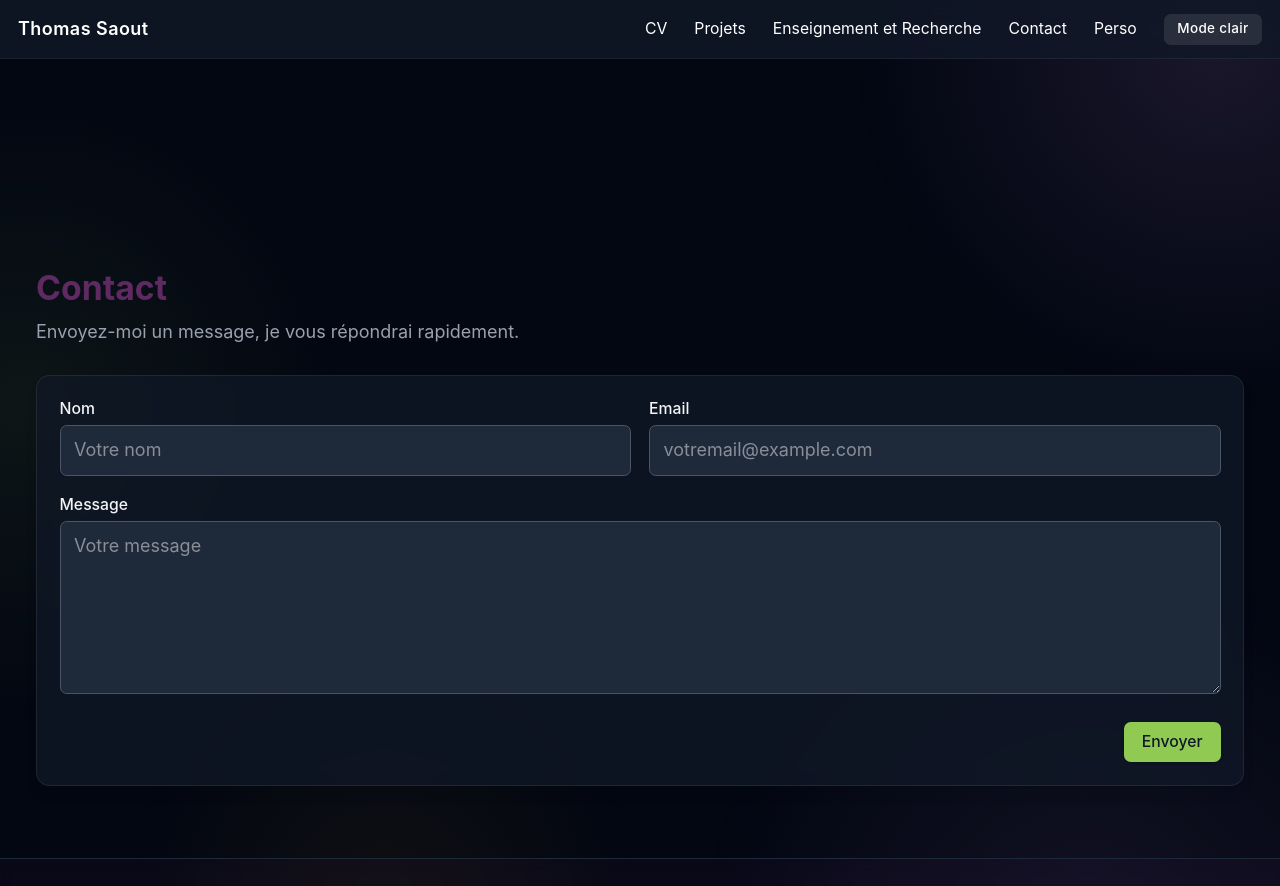
Test case: SectionContact › shows success message on successful submit
(page scrolled)
Type "Alice" into the field with placeholder "Votre nom" at x=345, y=451, box [60,426,631,476]
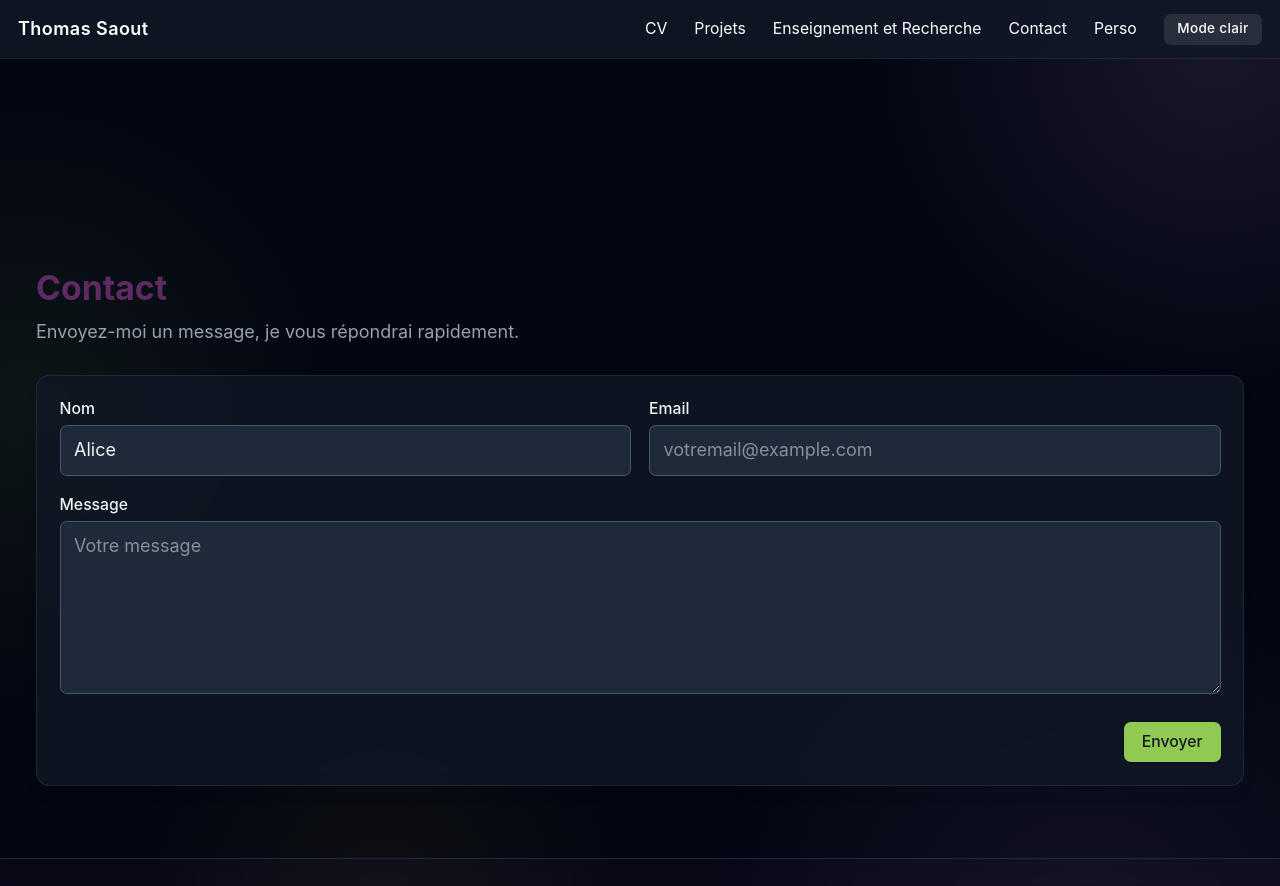
Type "alice@example.com" into the field with placeholder "votremail@example.com" at x=935, y=451, box [649,426,1220,476]
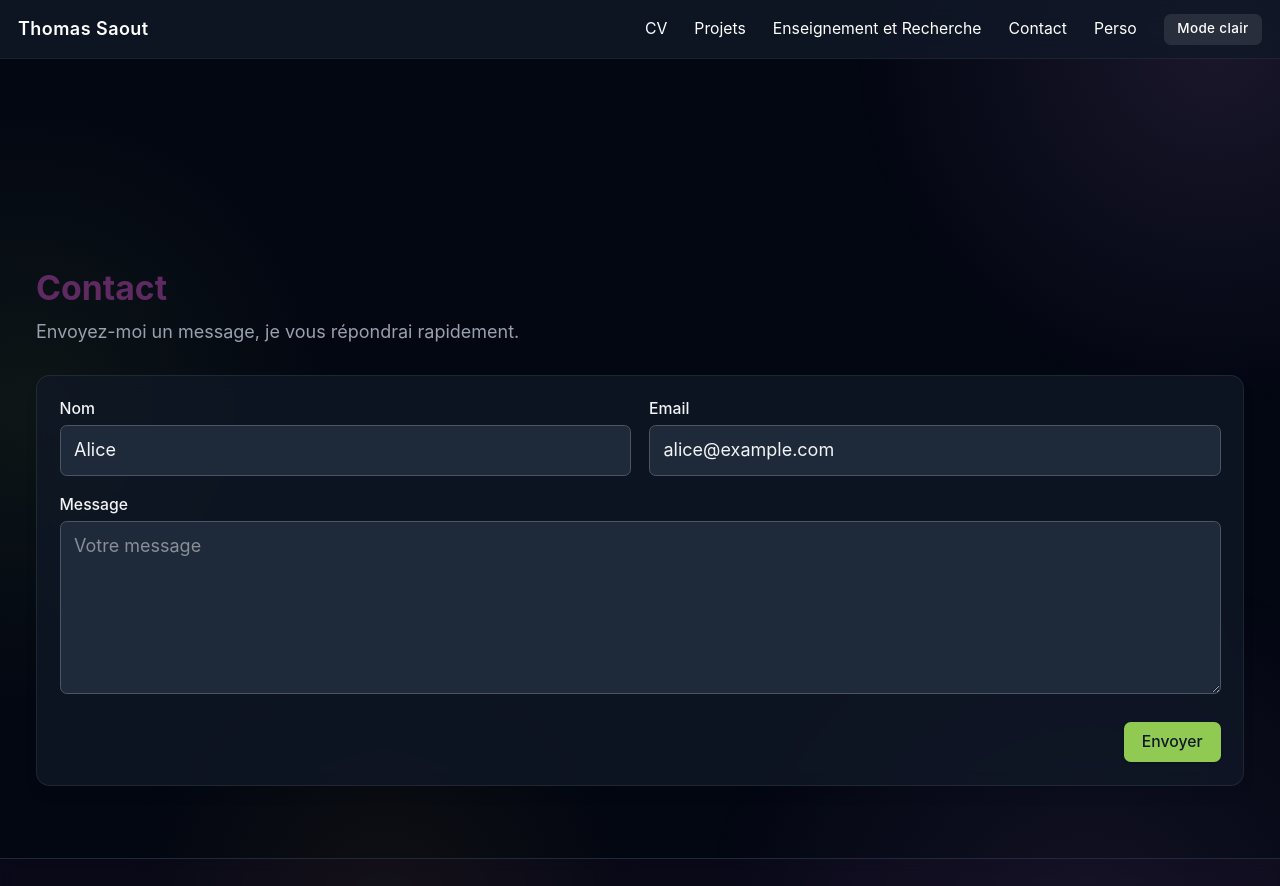
Type "Hello!" into the text box with placeholder "Votre message" at x=640, y=608, box [60,521,1220,694]
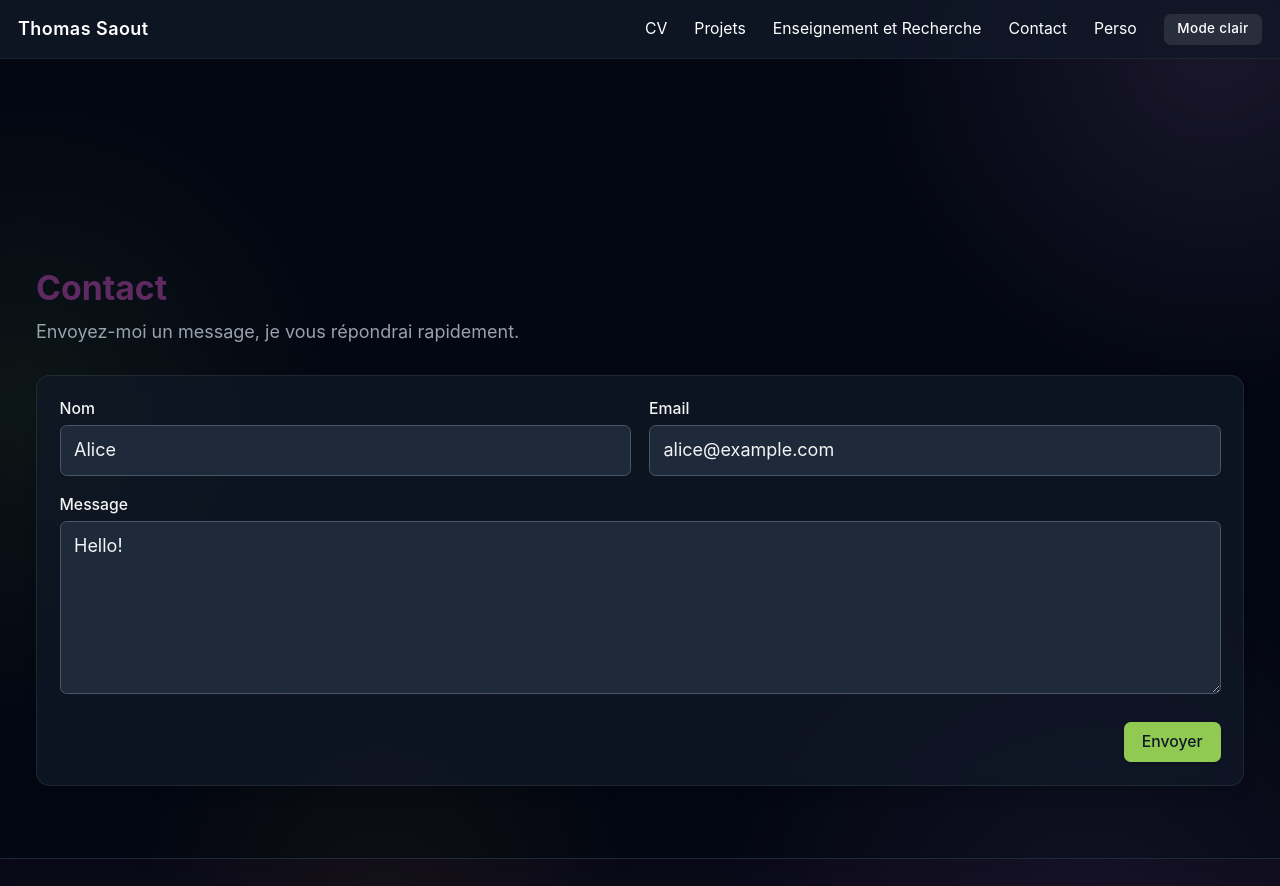
Click the button "Envoyer" at x=1172, y=742, box [1124,722,1220,762]
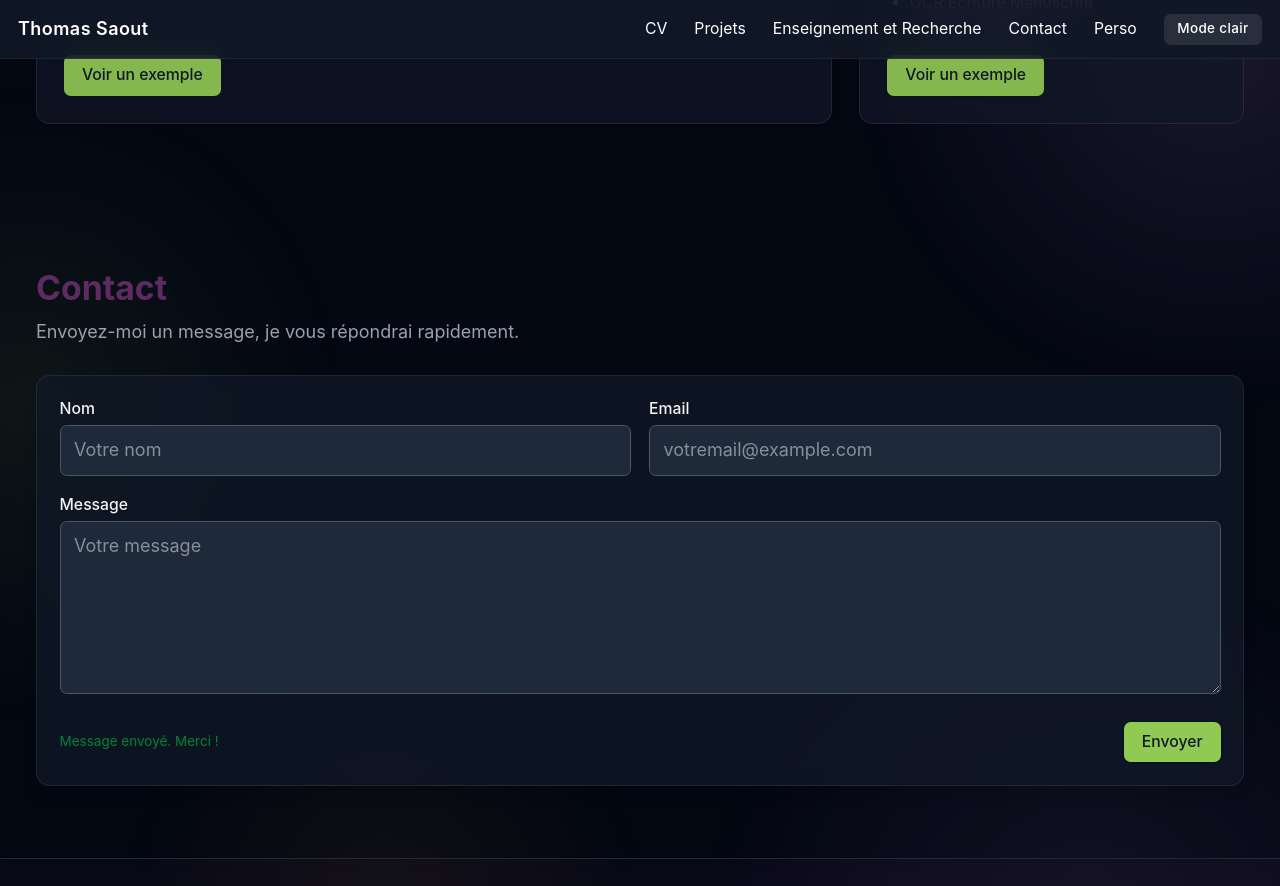
Check: the text "Message envoyé. Merci !" is shown, box [60,733,219,751]
